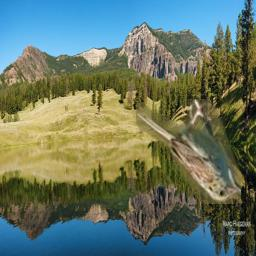Sparrow: (136, 99, 241, 204)
